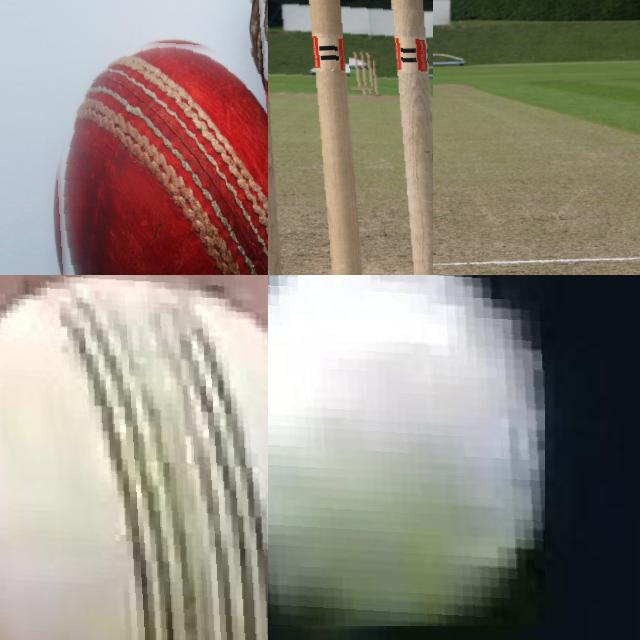Cricket ball: (0, 275, 268, 640), (268, 275, 545, 626), (49, 36, 268, 275)
Stumps: (268, 0, 433, 275), (348, 47, 373, 90)
